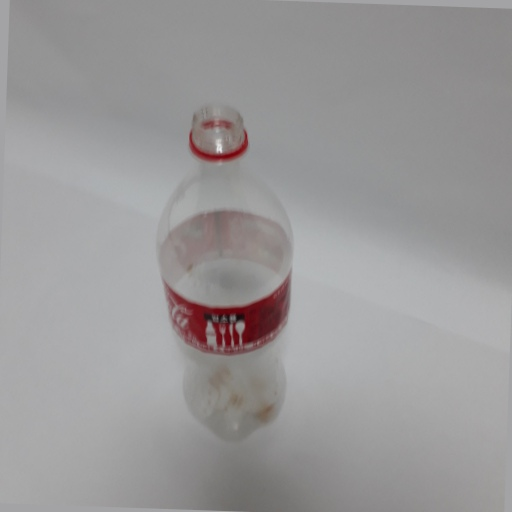Plastic_0: (150, 101, 305, 446)
